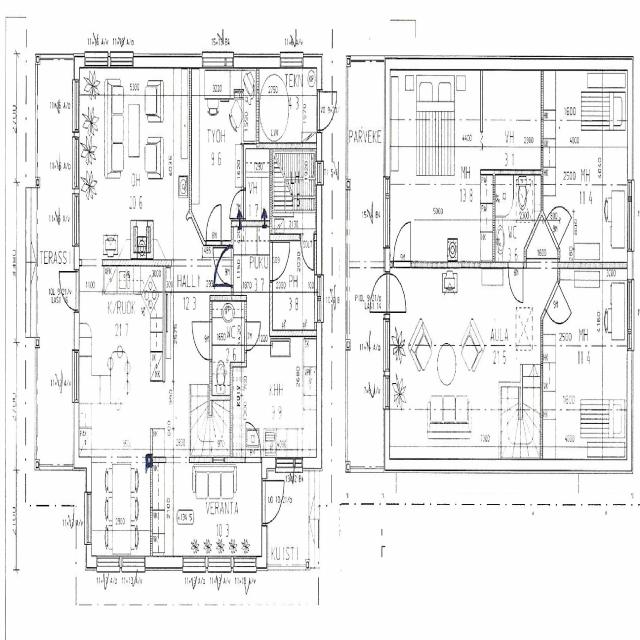door: (545, 280, 571, 340), (262, 480, 286, 523), (546, 218, 582, 246), (316, 92, 339, 131), (56, 271, 79, 309), (367, 274, 390, 312), (384, 274, 406, 312), (394, 222, 411, 268), (214, 248, 233, 286), (193, 322, 212, 360), (270, 242, 289, 280), (206, 206, 221, 246), (508, 262, 523, 301), (246, 423, 260, 463), (300, 233, 314, 270), (230, 190, 246, 218), (244, 322, 260, 350)
